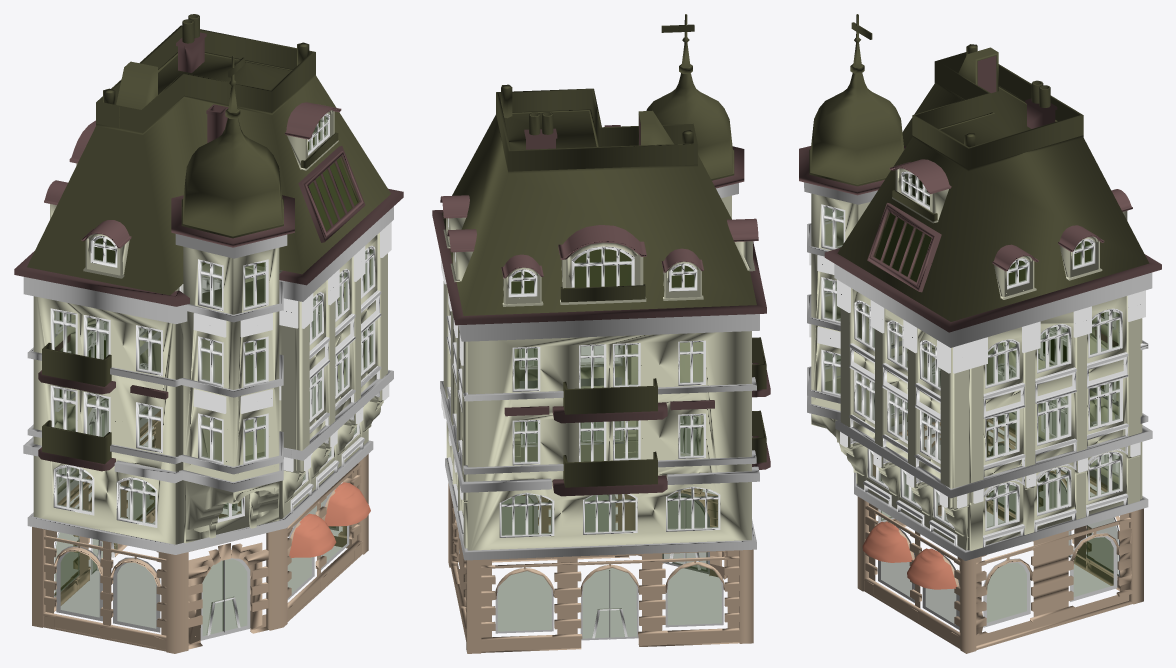
The model's file is building1.obj.
The picture shows the model from 3 angles, left to right: view 1: azimuth 30°, elevation 25°; view 2: azimuth 150°, elevation 25°; view 3: azimuth 270°, elevation 25°; orthographic projection. The views are drawn at different scales.
Visible parts, largest first — view 1: bankhaus-b; view 2: bankhaus-b; view 3: bankhaus-b.
Boxes of the visible parts, box(x1,y1,x2,y2) form: bankhaus-b: box(14, 14, 403, 653); bankhaus-b: box(432, 14, 770, 653); bankhaus-b: box(799, 14, 1161, 653).
Bounding box in the file's own units: 25899 × 38907 × 23211.
